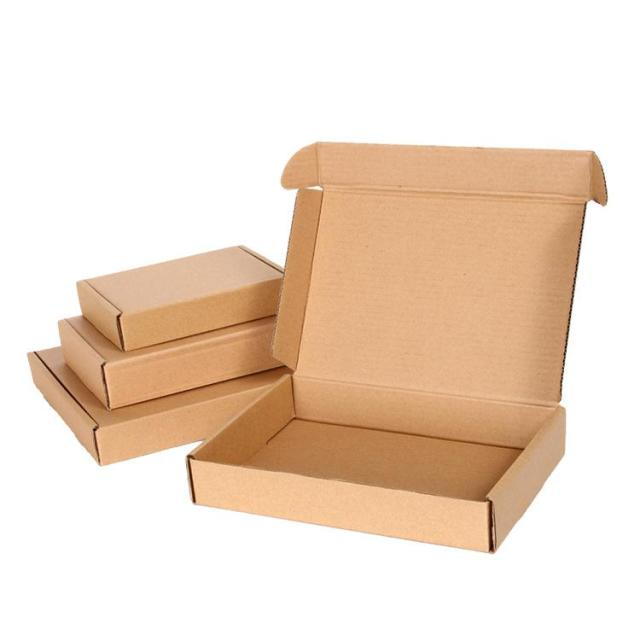cardboard: (186, 139, 593, 556), (26, 244, 296, 466)
